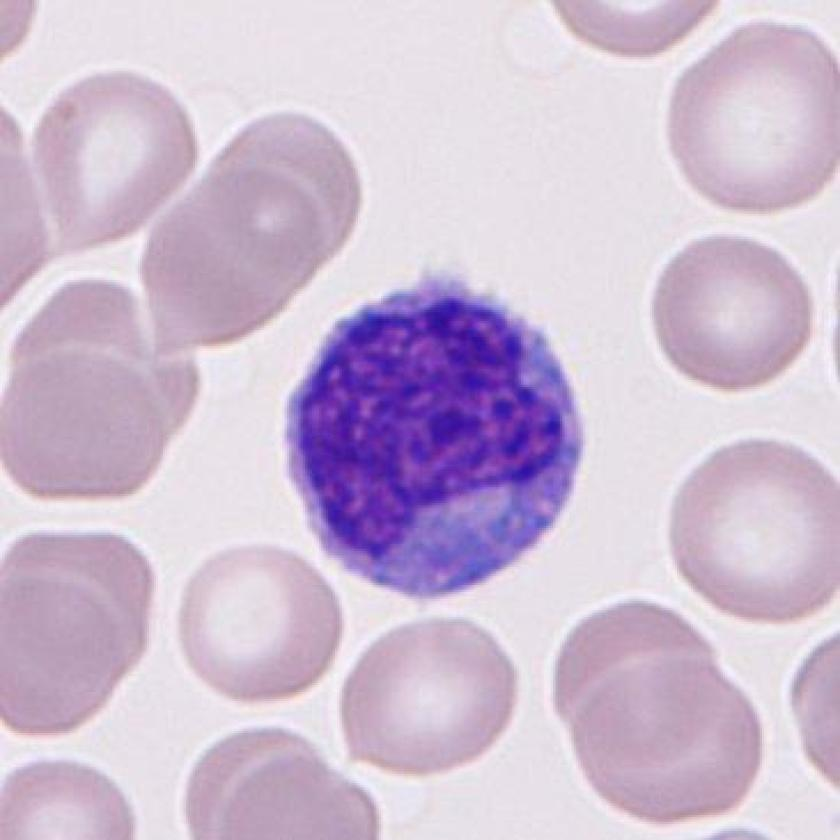monocyte: (267, 249, 605, 616)
